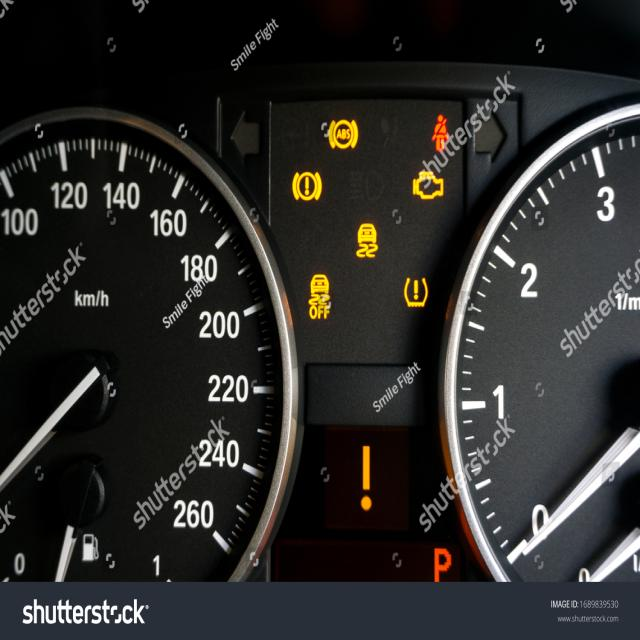Anti Lock Braking System: (328, 118, 359, 150)
Electronic Stability Problem -ESP-: (355, 222, 379, 260)
Low Tire Pressure Warning Light: (403, 276, 429, 309)
